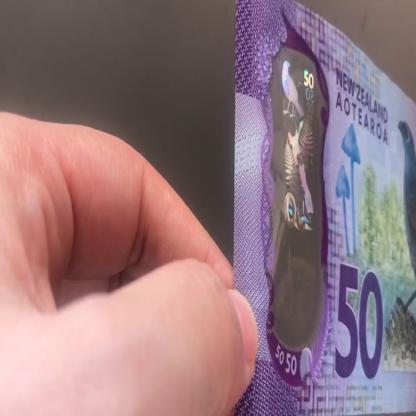50B: (276, 55, 319, 333)
